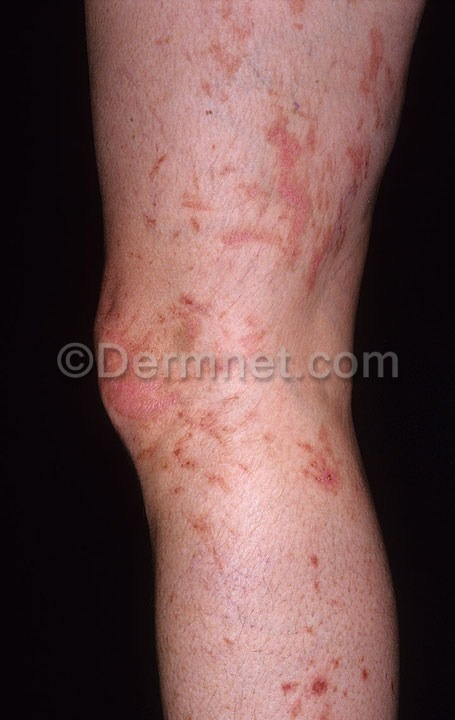Melasma: (131, 0, 392, 322), (153, 401, 404, 710)
